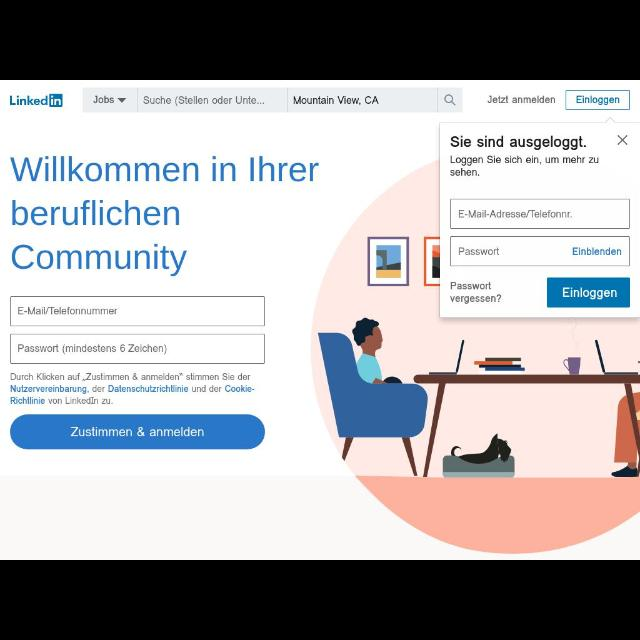backgroundimage: (312, 160, 640, 556)
button: (437, 88, 463, 112)
icon: (444, 94, 456, 106), (616, 134, 628, 146), (118, 98, 126, 102)
image: (10, 94, 62, 106)
input: (11, 296, 266, 326), (11, 334, 266, 364), (450, 199, 630, 229), (450, 237, 630, 267), (138, 89, 288, 113)
panel: (439, 122, 639, 318), (83, 88, 463, 112)
spinner: (94, 96, 126, 104)
text: (9, 158, 318, 276), (11, 374, 256, 404), (451, 156, 599, 177), (452, 136, 586, 150), (17, 344, 166, 354), (70, 427, 204, 437), (143, 96, 265, 106), (451, 282, 502, 304), (18, 306, 118, 316), (458, 210, 572, 218), (293, 96, 379, 106), (563, 288, 617, 300), (488, 96, 556, 104), (576, 96, 620, 106), (572, 247, 622, 255), (458, 248, 499, 256), (93, 96, 115, 104)
textbutton: (9, 414, 264, 450), (548, 278, 630, 308), (566, 90, 630, 110)
